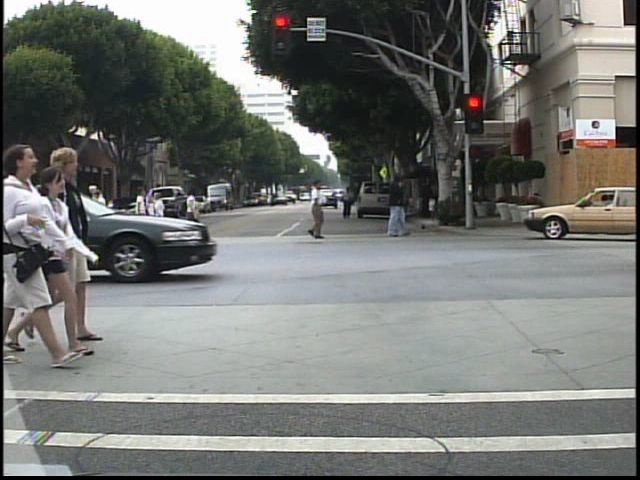person: (10, 163, 80, 364), (47, 145, 109, 349), (376, 168, 414, 241), (303, 176, 332, 241), (129, 189, 155, 251), (92, 188, 117, 246), (181, 189, 204, 247), (84, 183, 102, 246), (340, 184, 356, 220)
